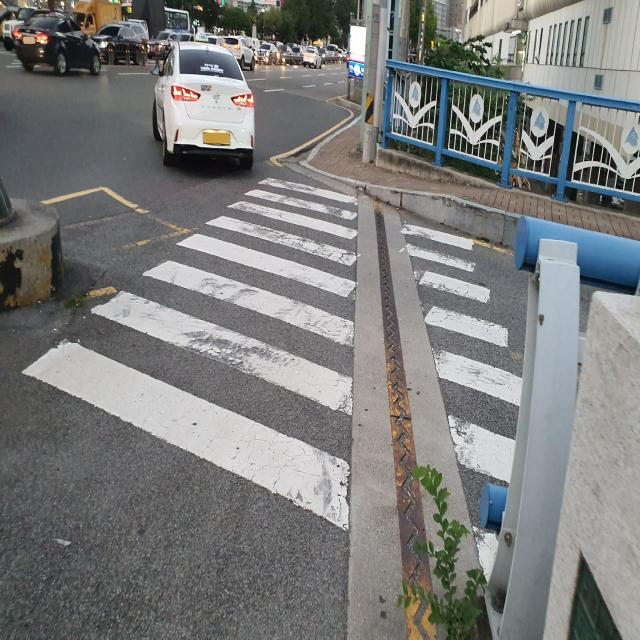횡단보도: (21, 175, 523, 584)
